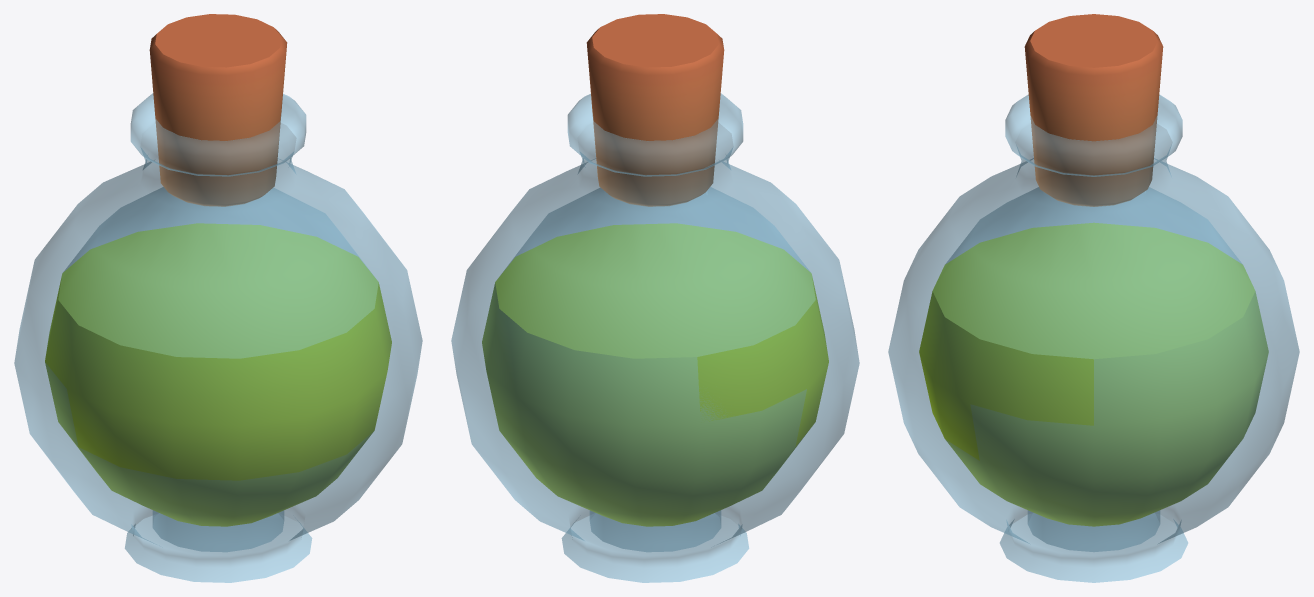
Rendered from Potion_Box_V3_00.fbx.
3 renders of one model, left to right at view 1: azimuth 30°, elevation 25°; view 2: azimuth 150°, elevation 25°; view 3: azimuth 270°, elevation 25°, orthographic.
Visible parts, largest first — view 1: Potion_Box_V3_00, Potion_V3_00, Potion_Box_Plug_V3_00; view 2: Potion_Box_V3_00, Potion_V3_00, Potion_Box_Plug_V3_00; view 3: Potion_Box_V3_00, Potion_V3_00, Potion_Box_Plug_V3_00.
Boxes of the visible parts, bbox=[...] form: Potion_Box_V3_00: bbox=[14, 93, 422, 582]; Potion_V3_00: bbox=[45, 223, 391, 526]; Potion_Box_Plug_V3_00: bbox=[149, 14, 287, 206]; Potion_Box_V3_00: bbox=[451, 93, 859, 582]; Potion_V3_00: bbox=[482, 223, 828, 526]; Potion_Box_Plug_V3_00: bbox=[586, 14, 724, 206]; Potion_Box_V3_00: bbox=[888, 94, 1299, 582]; Potion_V3_00: bbox=[919, 223, 1268, 526]; Potion_Box_Plug_V3_00: bbox=[1024, 14, 1163, 206].
Size of the model in its own units: 29.81 by 40.12 by 29.81.
